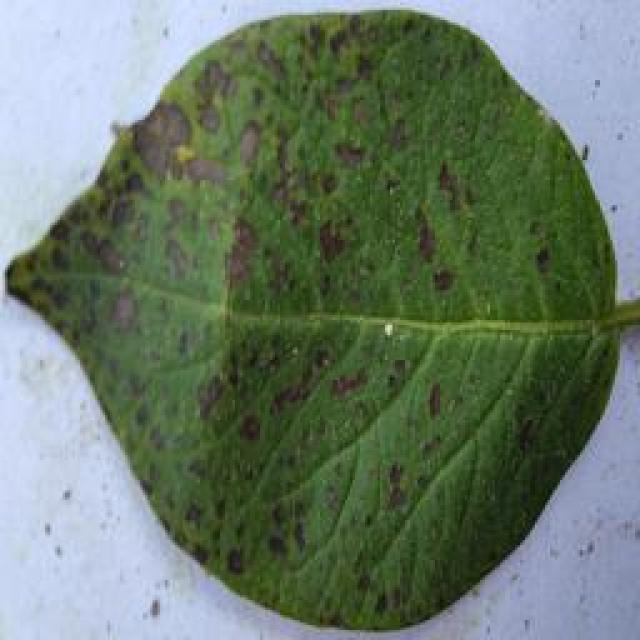Potato_Early_Blight: (5, 5, 628, 630)
